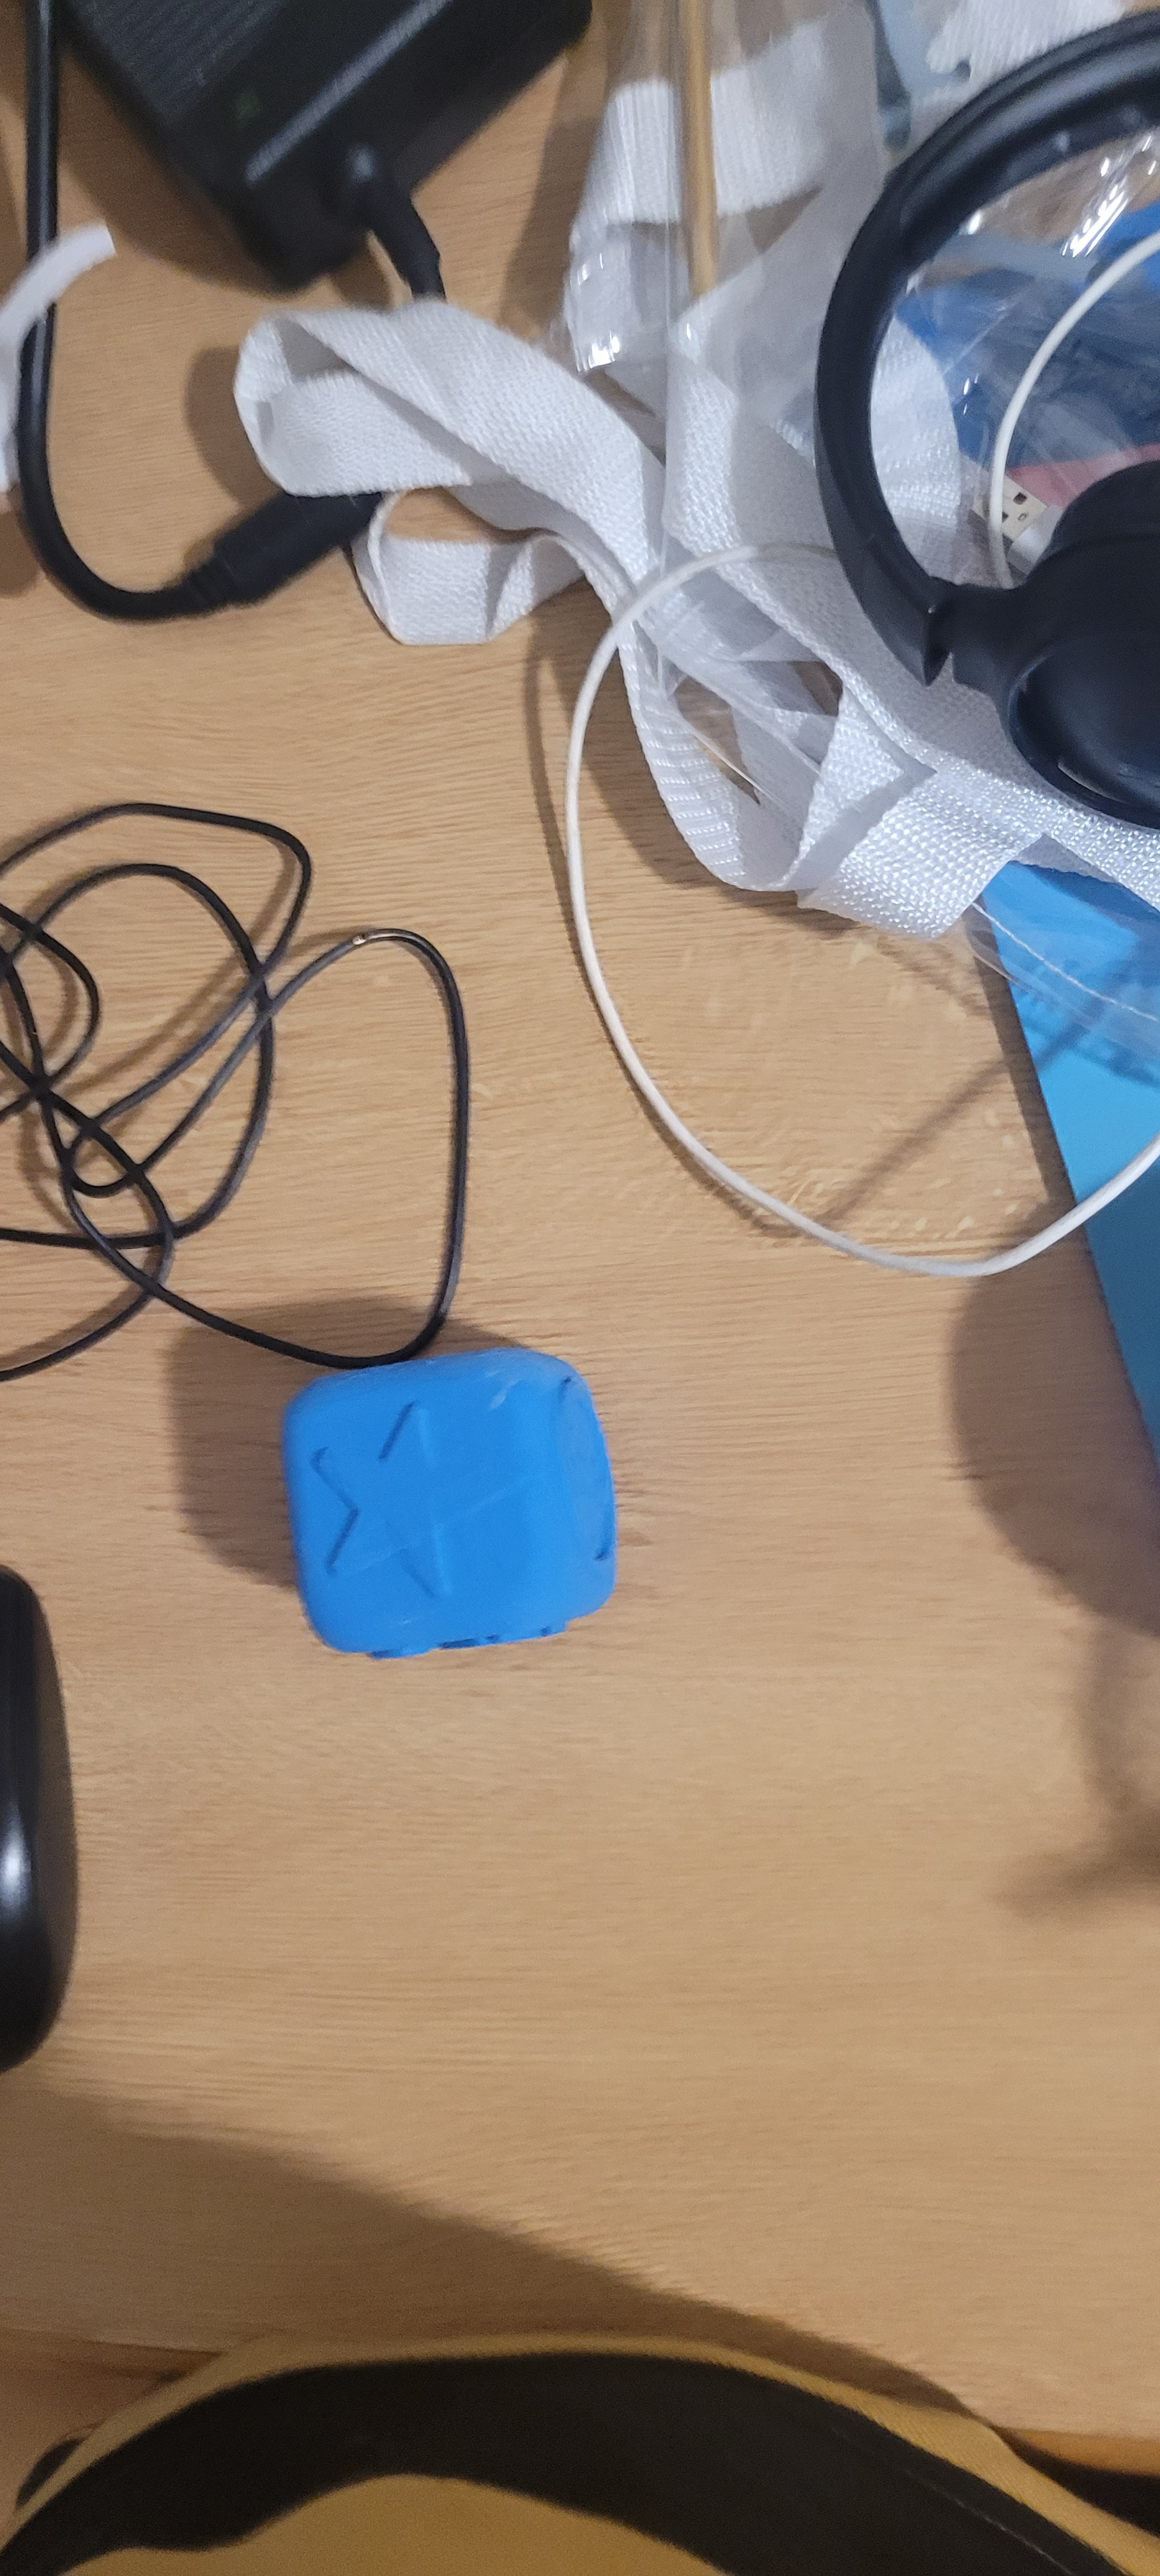Star: (307, 1350, 509, 1672)
